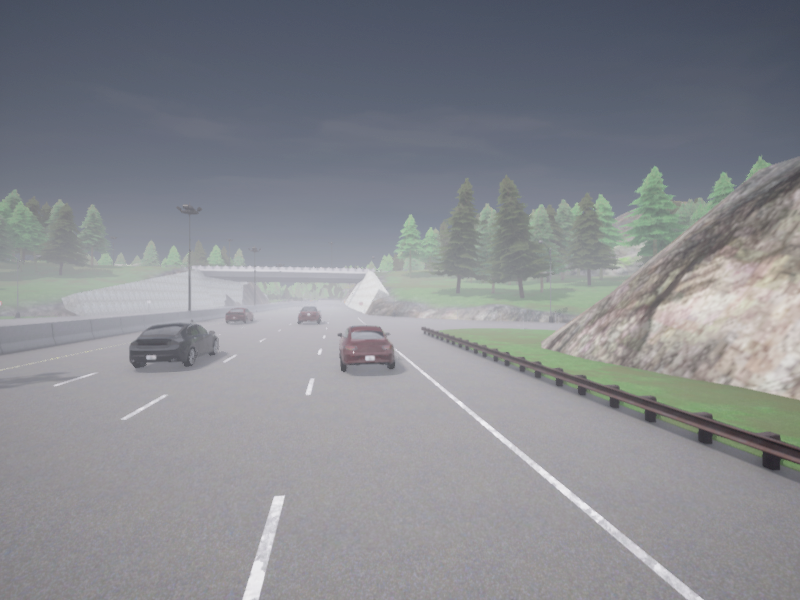vehicle: (129, 322, 218, 367), (337, 325, 394, 370), (225, 308, 253, 323), (298, 306, 321, 323)
